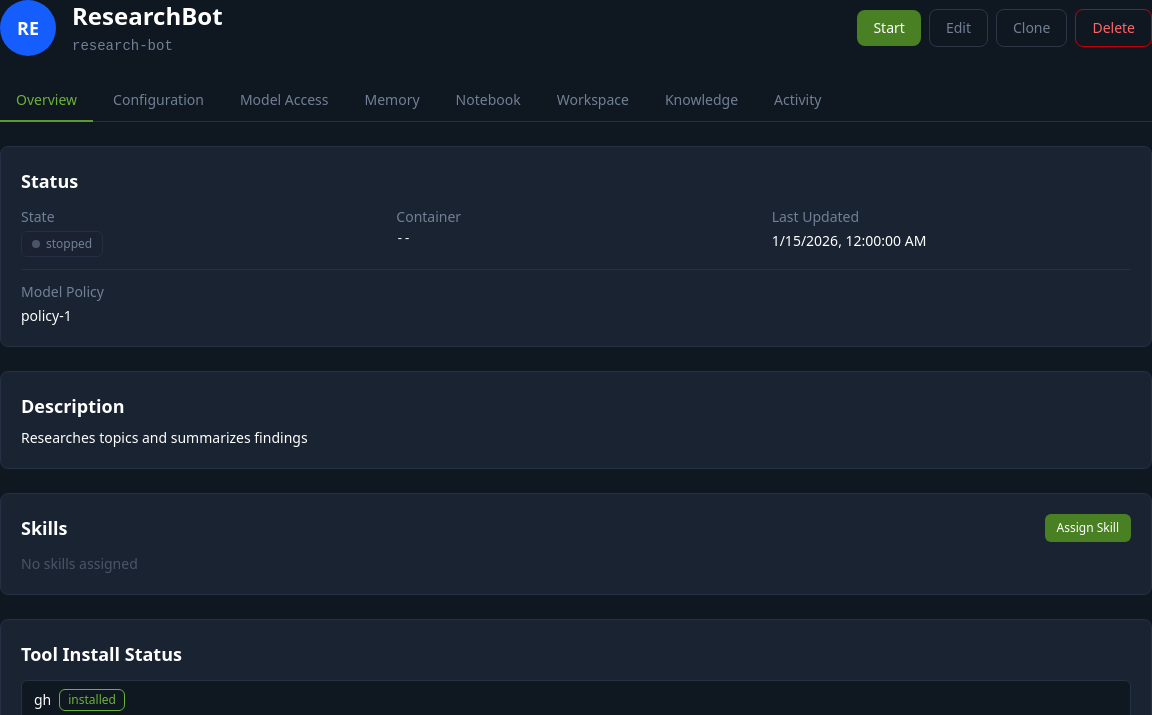
AgentDetailClient › a non-JSON error body no longer fails silently (this sweep) › Delete shows a toast, not silence, and does not navigate away, on the same failure shape
expect the heading "ResearchBot" is shown: met, box [72,0,223,32]
Step 1. Click the button "Delete" → (1114, 28), box [1075,9,1151,47]
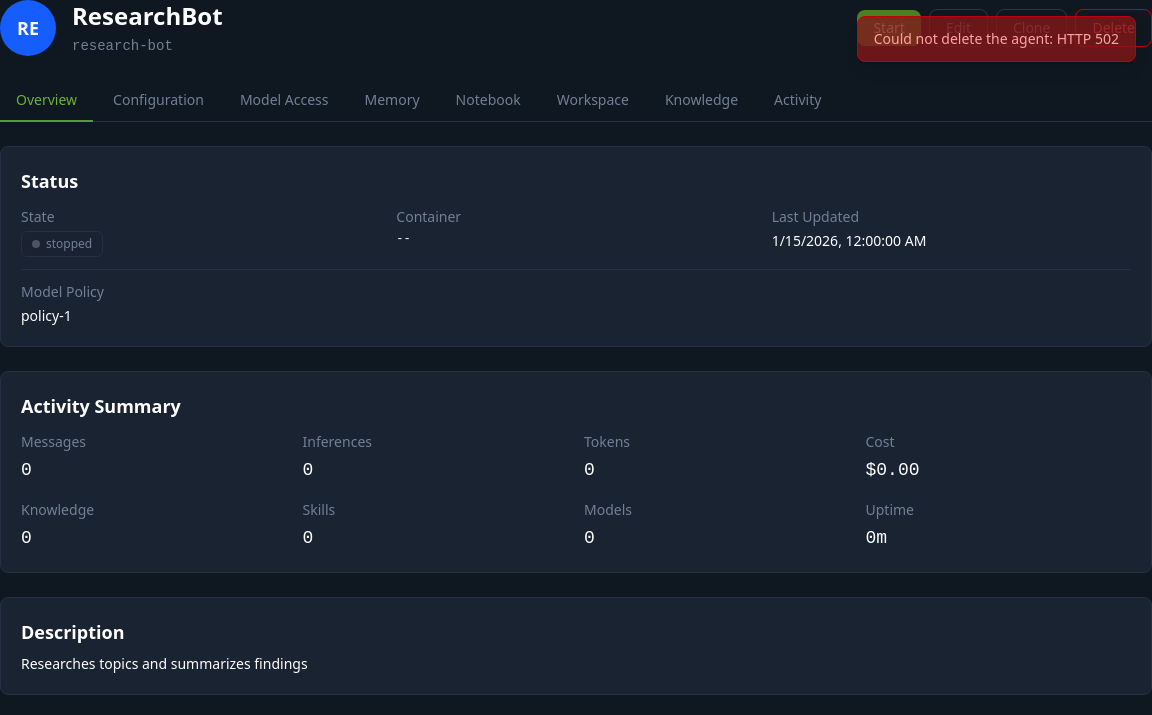
expect the message "Could not delete the agent: HTTP 502" is shown: met, box [857,16,1136,62]
expect the message with test id "toast-error" shows "HTTP 502": met, box [874,29,1119,48]
